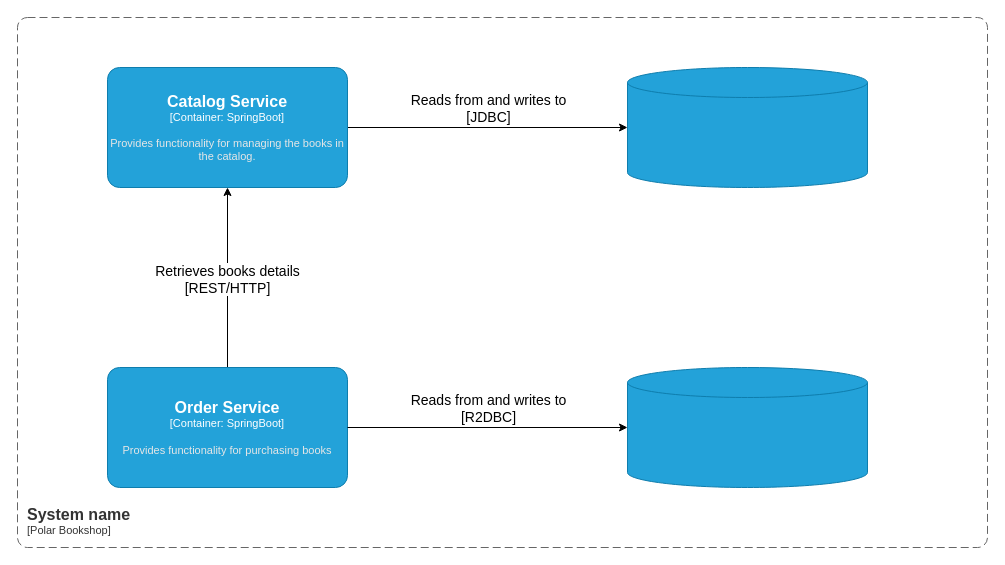
The diagram is 1005 pixels wide and 565 high, and some of its shapes have lost their labels. The shapes that lost their labels are listed below. From the top down, each one's centre as x and y in pixels, then its label:
At pixel 747 127: "Container Database [Container: PostgresSQL] Stores book data".
At pixel 747 427: "Order Database [Container: PostgresSQL] Stores order data".
